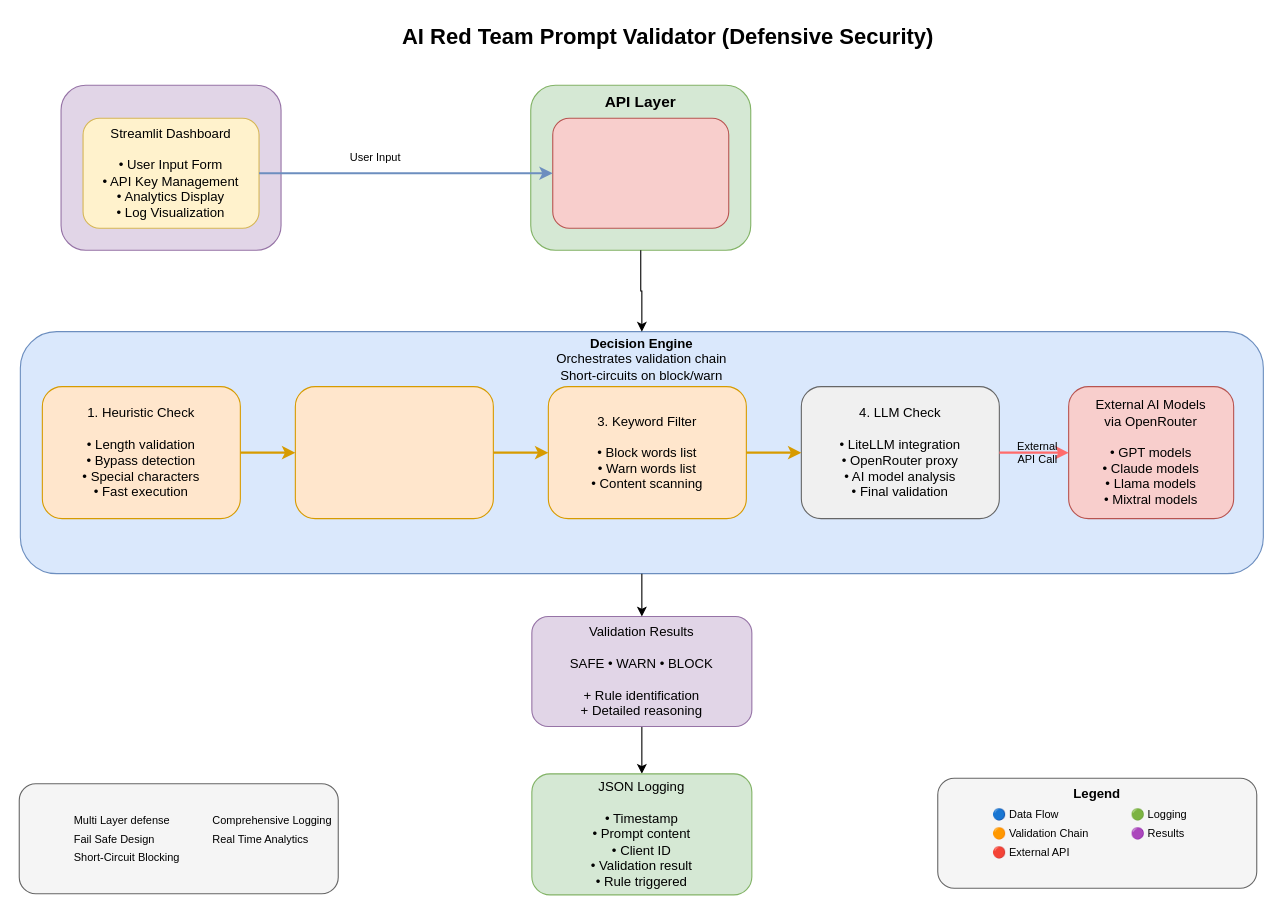
Image size: 1283x914. Some labels were removed from this diagram. Each missing label, with the box of its shape:
2. Rule Check • Regex patterns • Dangerous instructions • Pattern matching: (294, 386, 493, 519)
Frontend Layer: (60, 84, 281, 250)
Security Features: (18, 783, 338, 894)
• set_key() • validate_internal() • log_and_respond() • JSON Logging: (552, 117, 729, 228)
